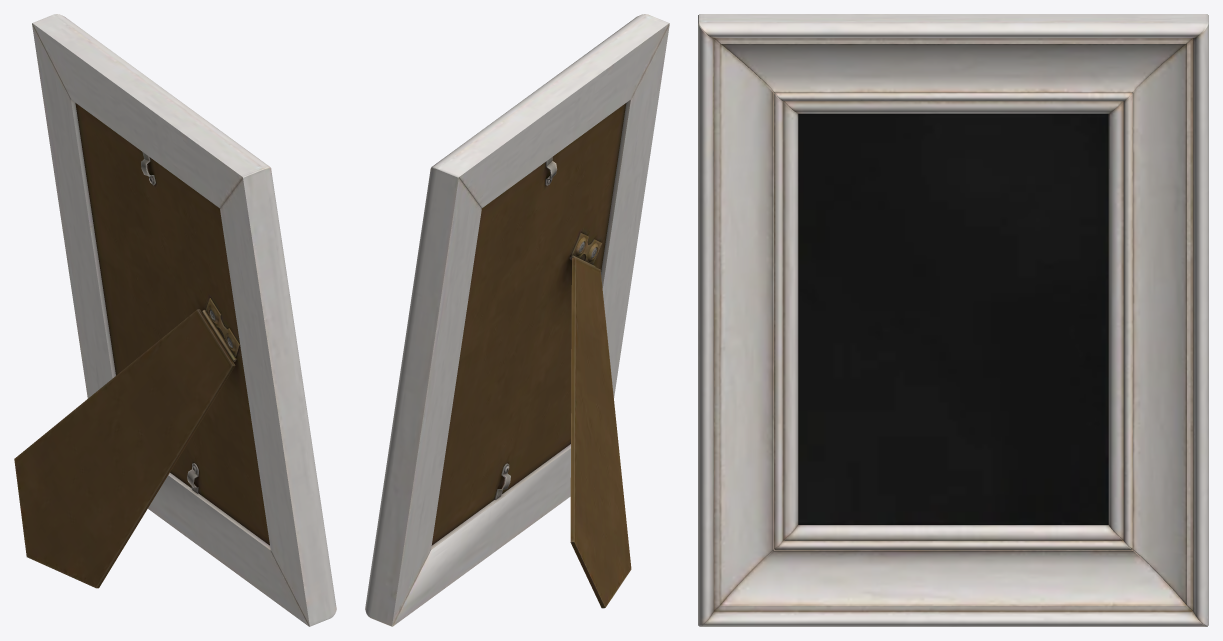
Rendered from standing_picture_frame_02.glb.
3 renders of one model, left to right at view 1: azimuth 30°, elevation 25°; view 2: azimuth 150°, elevation 25°; view 3: azimuth 270°, elevation 25°, orthographic. The views are drawn at different scales.
Visible parts, largest first — view 1: standing_picture_frame_02; view 2: standing_picture_frame_02; view 3: standing_picture_frame_02.
Part boxes in pixels (<box>): standing_picture_frame_02: <box>14,14,336,626</box>; standing_picture_frame_02: <box>365,14,669,626</box>; standing_picture_frame_02: <box>698,14,1208,626</box>.
Size of the model in its own units: 0.1023 by 0.2664 by 0.2169.
Materials: 3 (3 with a texture image).
